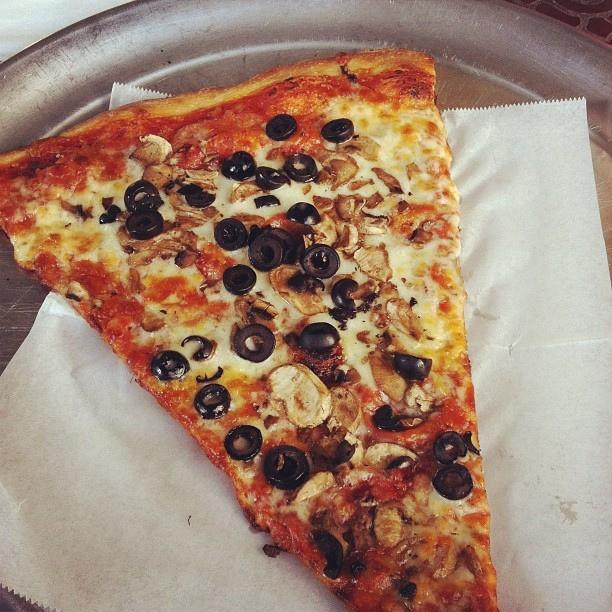mushroom: (264, 363, 333, 429), (268, 263, 329, 315), (326, 384, 362, 433), (365, 442, 420, 472), (318, 152, 358, 192), (290, 472, 338, 505), (128, 134, 172, 169), (372, 502, 403, 548), (354, 246, 393, 282), (385, 297, 418, 338), (404, 381, 436, 414), (141, 162, 173, 190), (150, 240, 188, 260), (334, 222, 358, 252), (335, 198, 366, 220), (175, 250, 200, 268)
